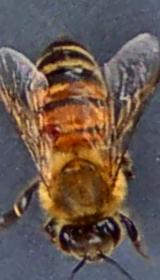varroa_mite: (32, 110, 66, 149)
